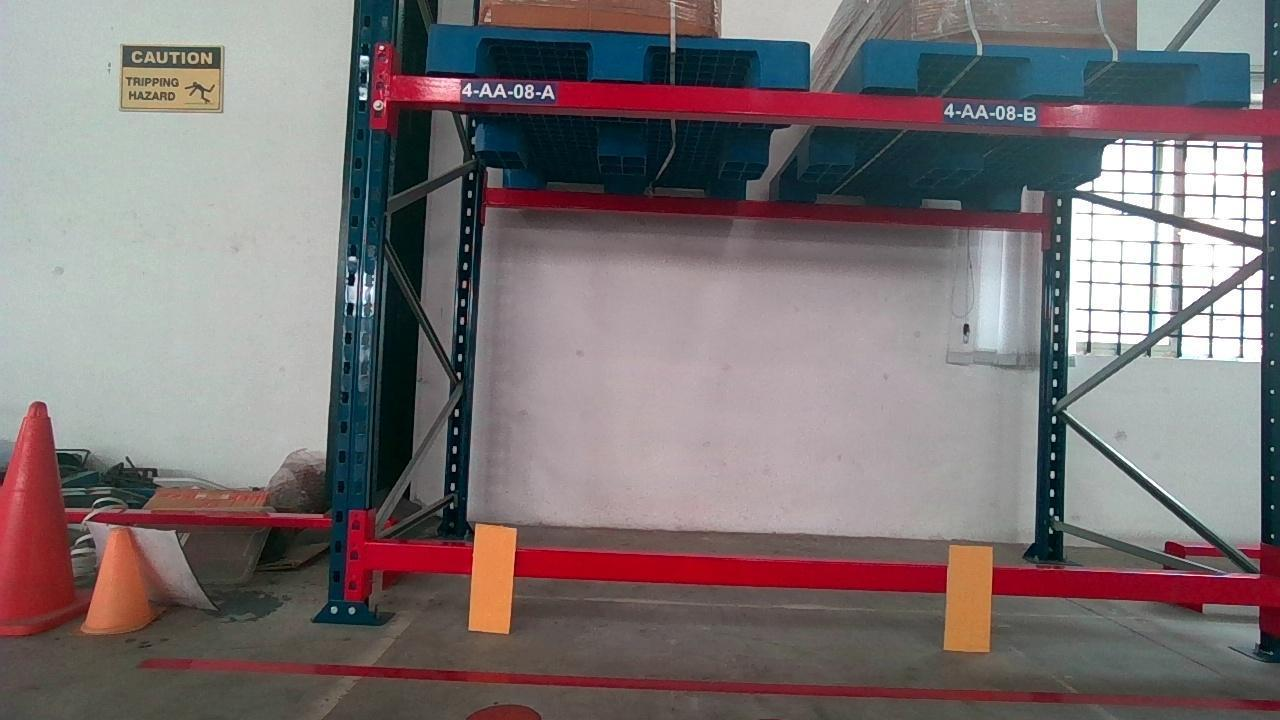h_rack: (395, 70, 1280, 145), (360, 544, 1264, 603)
orange_strip: (468, 522, 515, 631), (944, 544, 993, 648)
red_line: (129, 656, 1280, 709)
small_pallet: (860, 41, 1246, 100), (432, 28, 806, 80)
